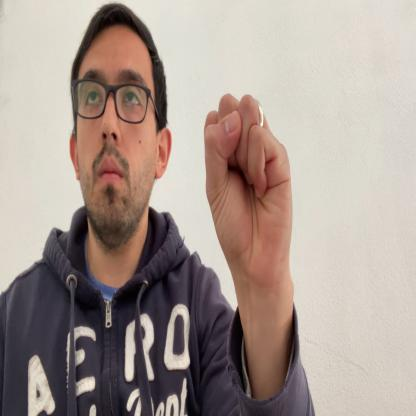S: (204, 90, 293, 284)
